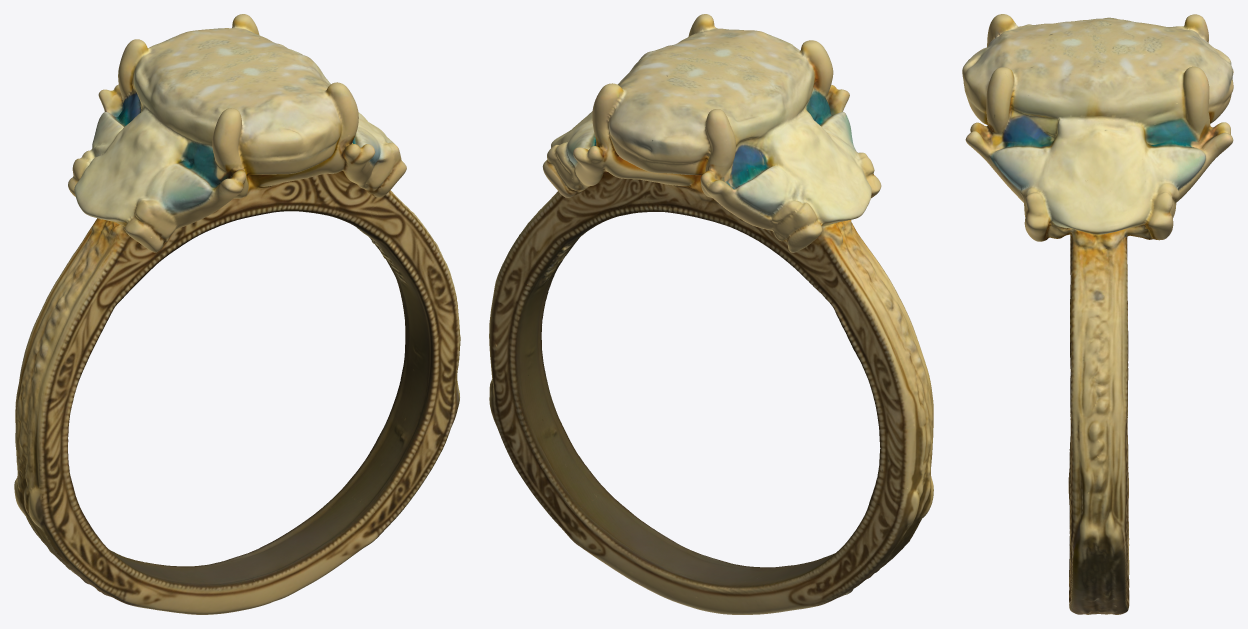
The model's file is ring.glb.
3 views of the same model, side by side, from view 1: azimuth 30°, elevation 25°; view 2: azimuth 150°, elevation 25°; view 3: azimuth 270°, elevation 25° (orthographic).
Size of the model in its own units: 1.69 by 2 by 0.8941.
Materials: 1 (1 with a texture image).
